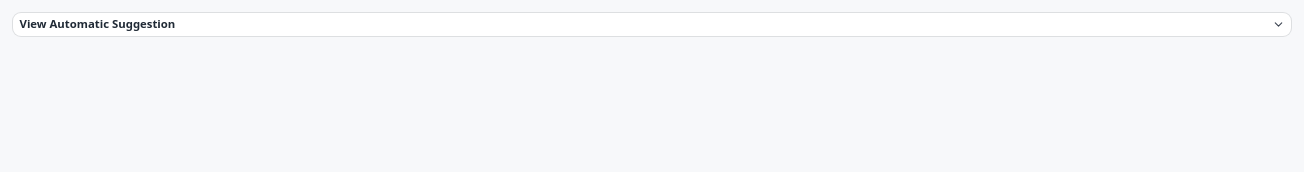
FuturePlanSuggest standalone › suggestions stay hidden until explicit open
expect the text "Apply Suggestion" is not shown: met
Click the button "View Automatic Suggestion" at (97, 24), box [12,12,1292,37]
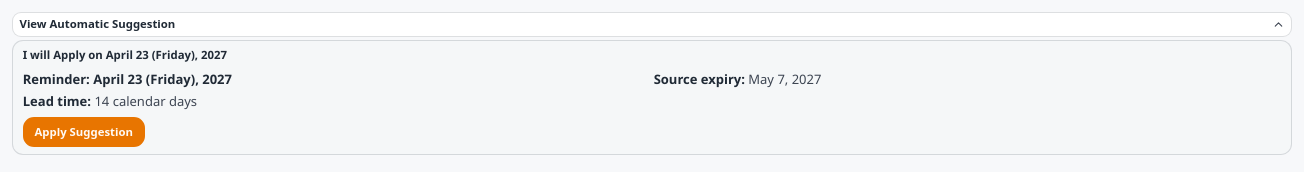
expect the button "Apply Suggestion" is shown: met, box [23,117,145,147]
